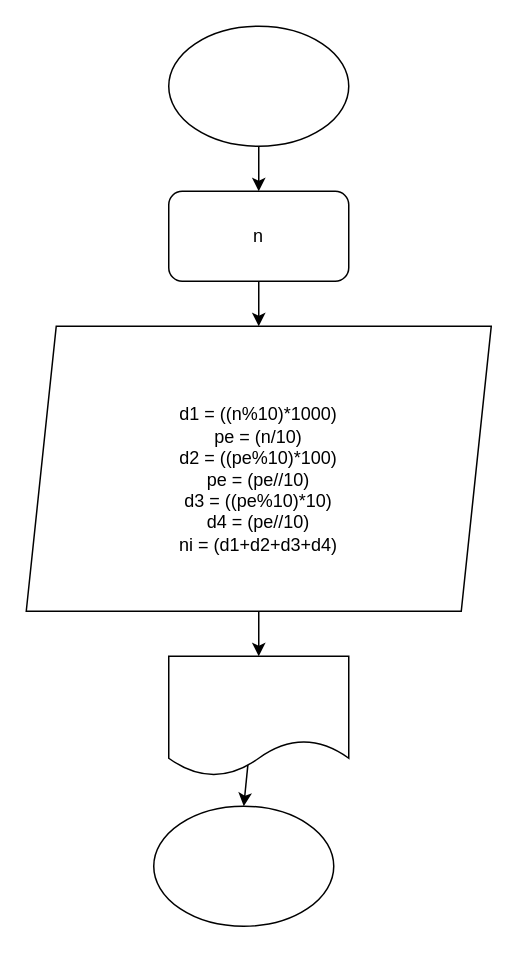
This 518x953 diagram has some shape labels left out. The shapes that lost their labels are listed below. From the top down, each one's centre as x and y in pixels, then its label:
At (258,85): "inicio".
At (243,865): "fin".
